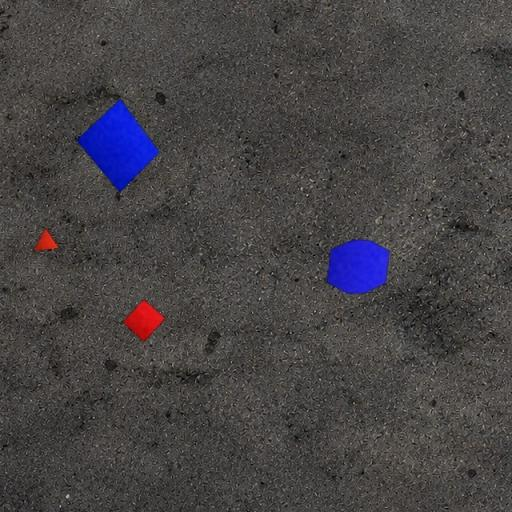BLUE_SQUARE: (76, 98, 160, 193)
RED_SQUARE: (122, 298, 166, 344)
